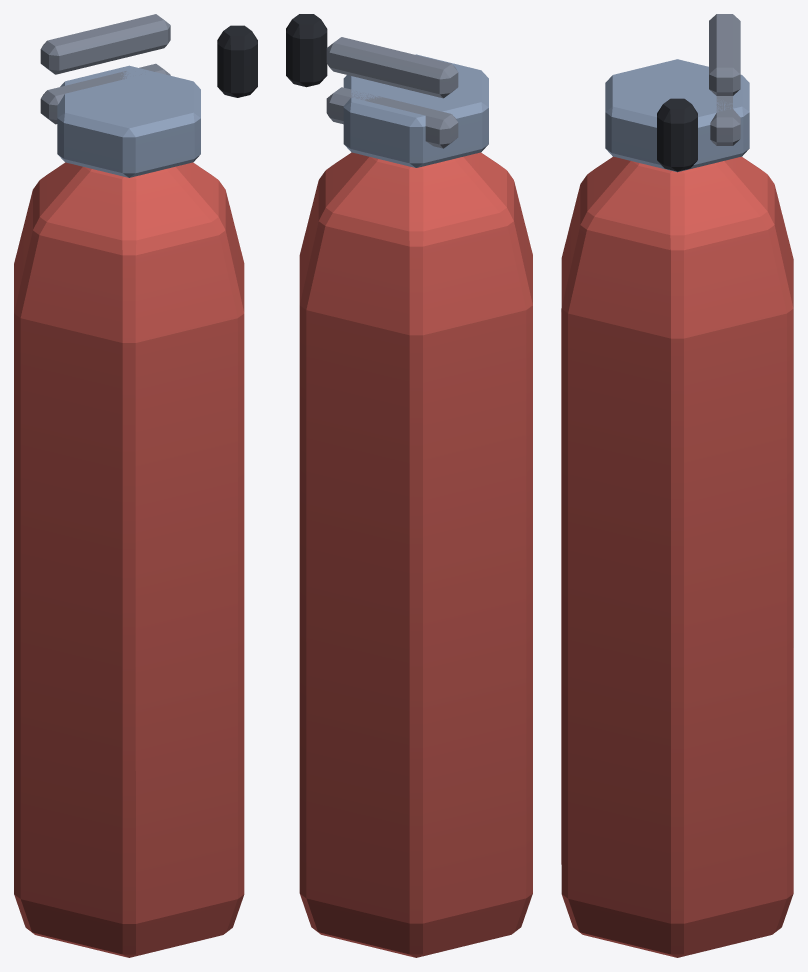
File: fire_extinguisher.glb
The picture shows the model from 3 angles, left to right: view 1: azimuth 30°, elevation 25°; view 2: azimuth 150°, elevation 25°; view 3: azimuth 270°, elevation 25°; orthographic projection.
Visible parts, largest first — view 1: fire_extinguisher; view 2: fire_extinguisher; view 3: fire_extinguisher.
Part boxes in pixels (left/top/right/bottom): fire_extinguisher: left=14, top=14, right=257, bottom=957; fire_extinguisher: left=286, top=14, right=532, bottom=957; fire_extinguisher: left=561, top=14, right=793, bottom=957.
Bounding box in the file's own units: 0.1752 × 0.61 × 0.1473.
Materials: 1 (1 with a texture image).
